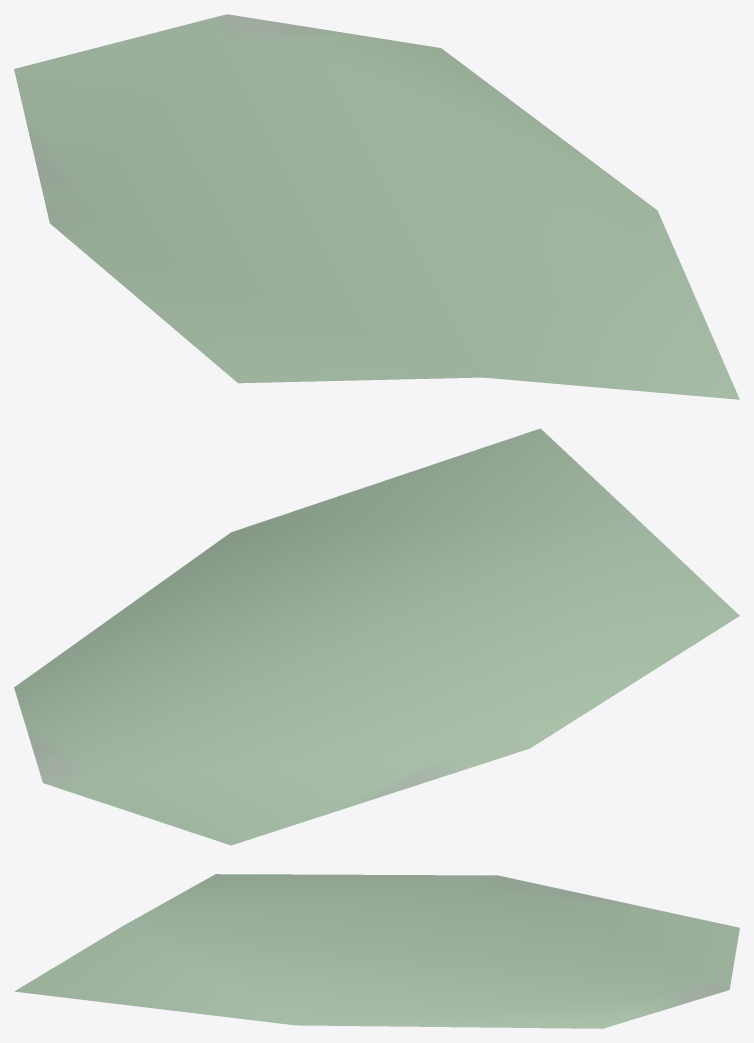
Rendered from TROLLHOLE02_HOLECAP156.fbx.
3 views of the same model, one above another, from view 1: azimuth 30°, elevation 25°; view 2: azimuth 150°, elevation 25°; view 3: azimuth 270°, elevation 25° (orthographic). The views are drawn at different scales.
Parts seen in each view (by area): view 1: TROLLHOLE02_HOLECAP156; view 2: TROLLHOLE02_HOLECAP156; view 3: TROLLHOLE02_HOLECAP156.
Boxes of the visible parts, bbox=[...] form: TROLLHOLE02_HOLECAP156: bbox=[14, 14, 739, 399]; TROLLHOLE02_HOLECAP156: bbox=[14, 428, 739, 845]; TROLLHOLE02_HOLECAP156: bbox=[14, 874, 739, 1028].
Bounding box in the file's own units: 23501 × 723 × 44259.
1 material, 1 textured.
